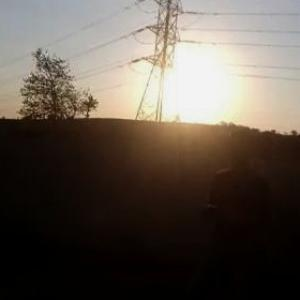follow: (196, 123, 271, 299)
